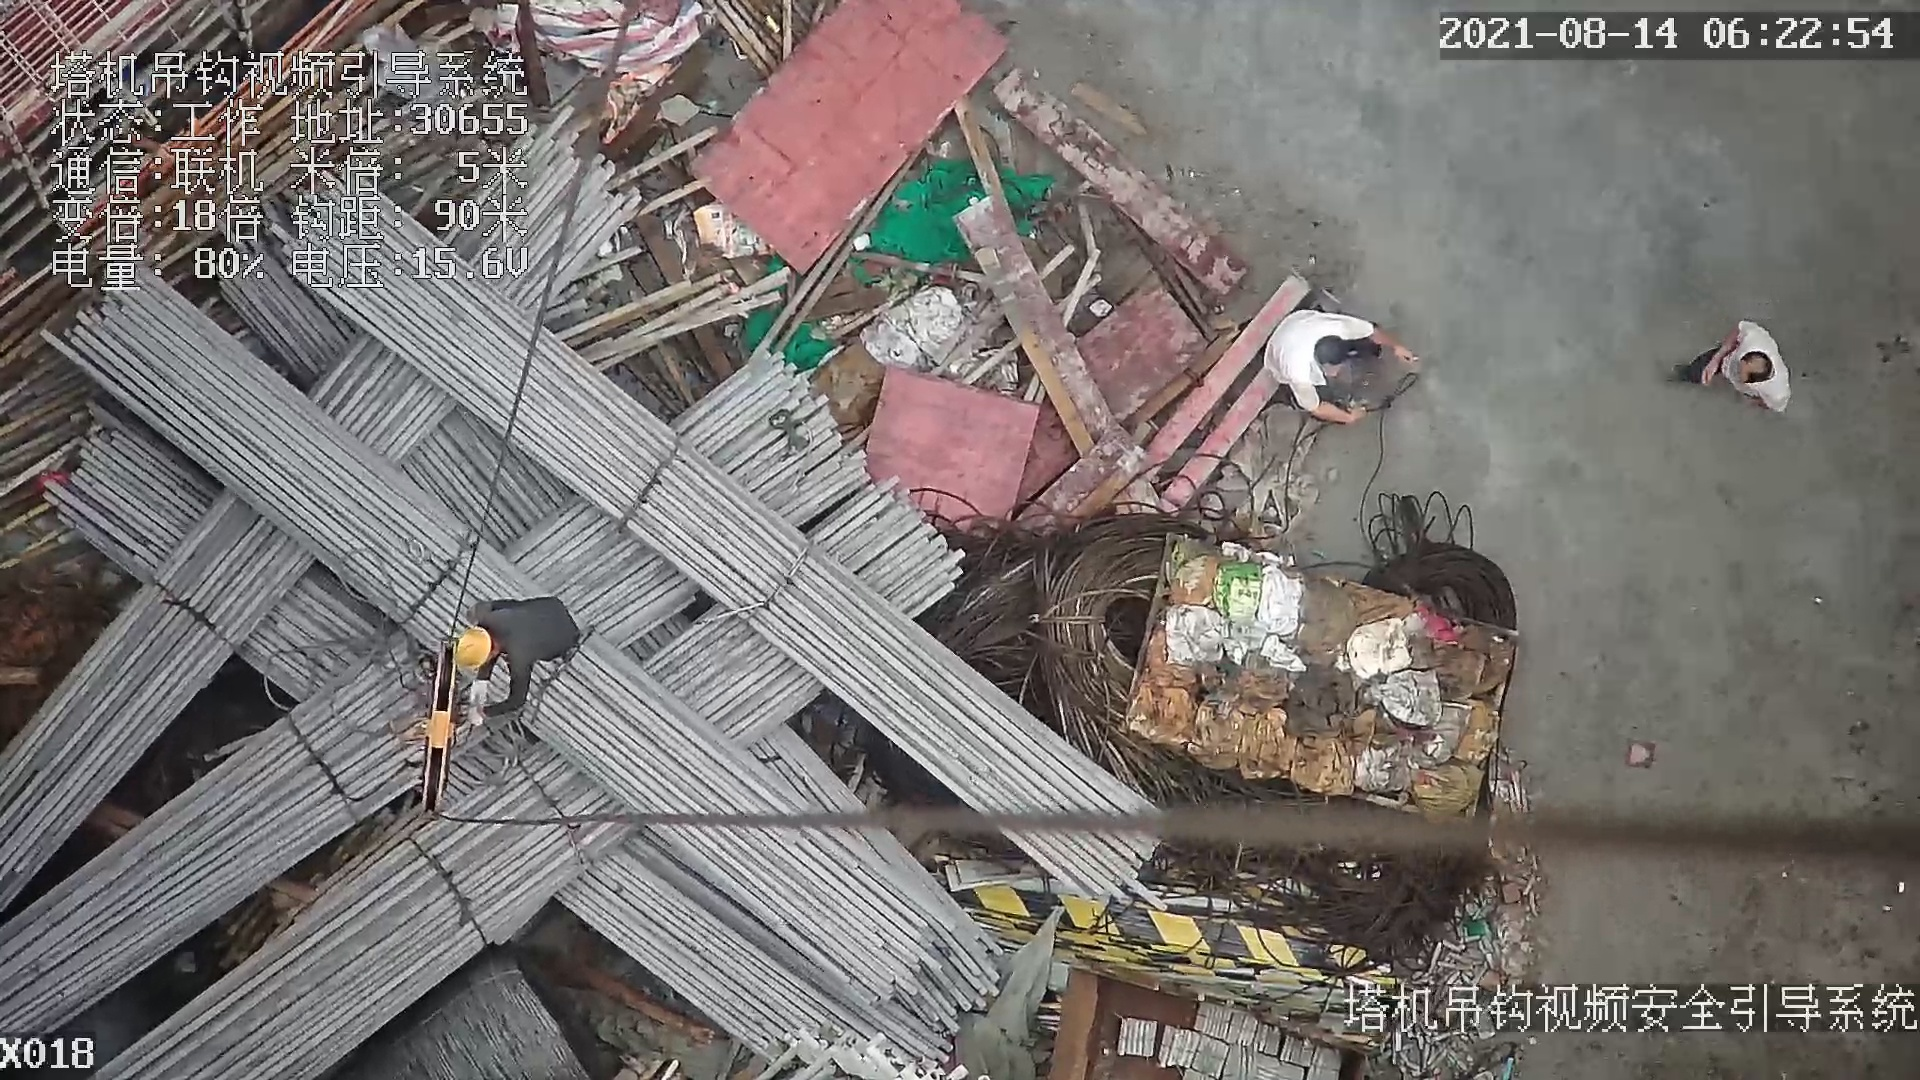board: (681, 2, 1023, 286)
helmet: (455, 627, 489, 667)
hook: (390, 636, 468, 818)
person: (1263, 309, 1424, 422), (447, 595, 587, 714), (1668, 315, 1800, 418)
